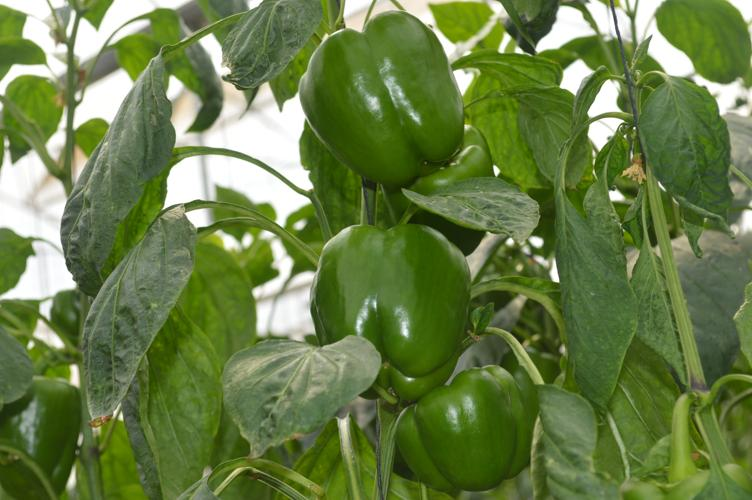BellPepper: (287, 13, 463, 179), (309, 225, 468, 393), (390, 366, 521, 486), (399, 126, 495, 249), (3, 379, 82, 494), (506, 347, 560, 454)
